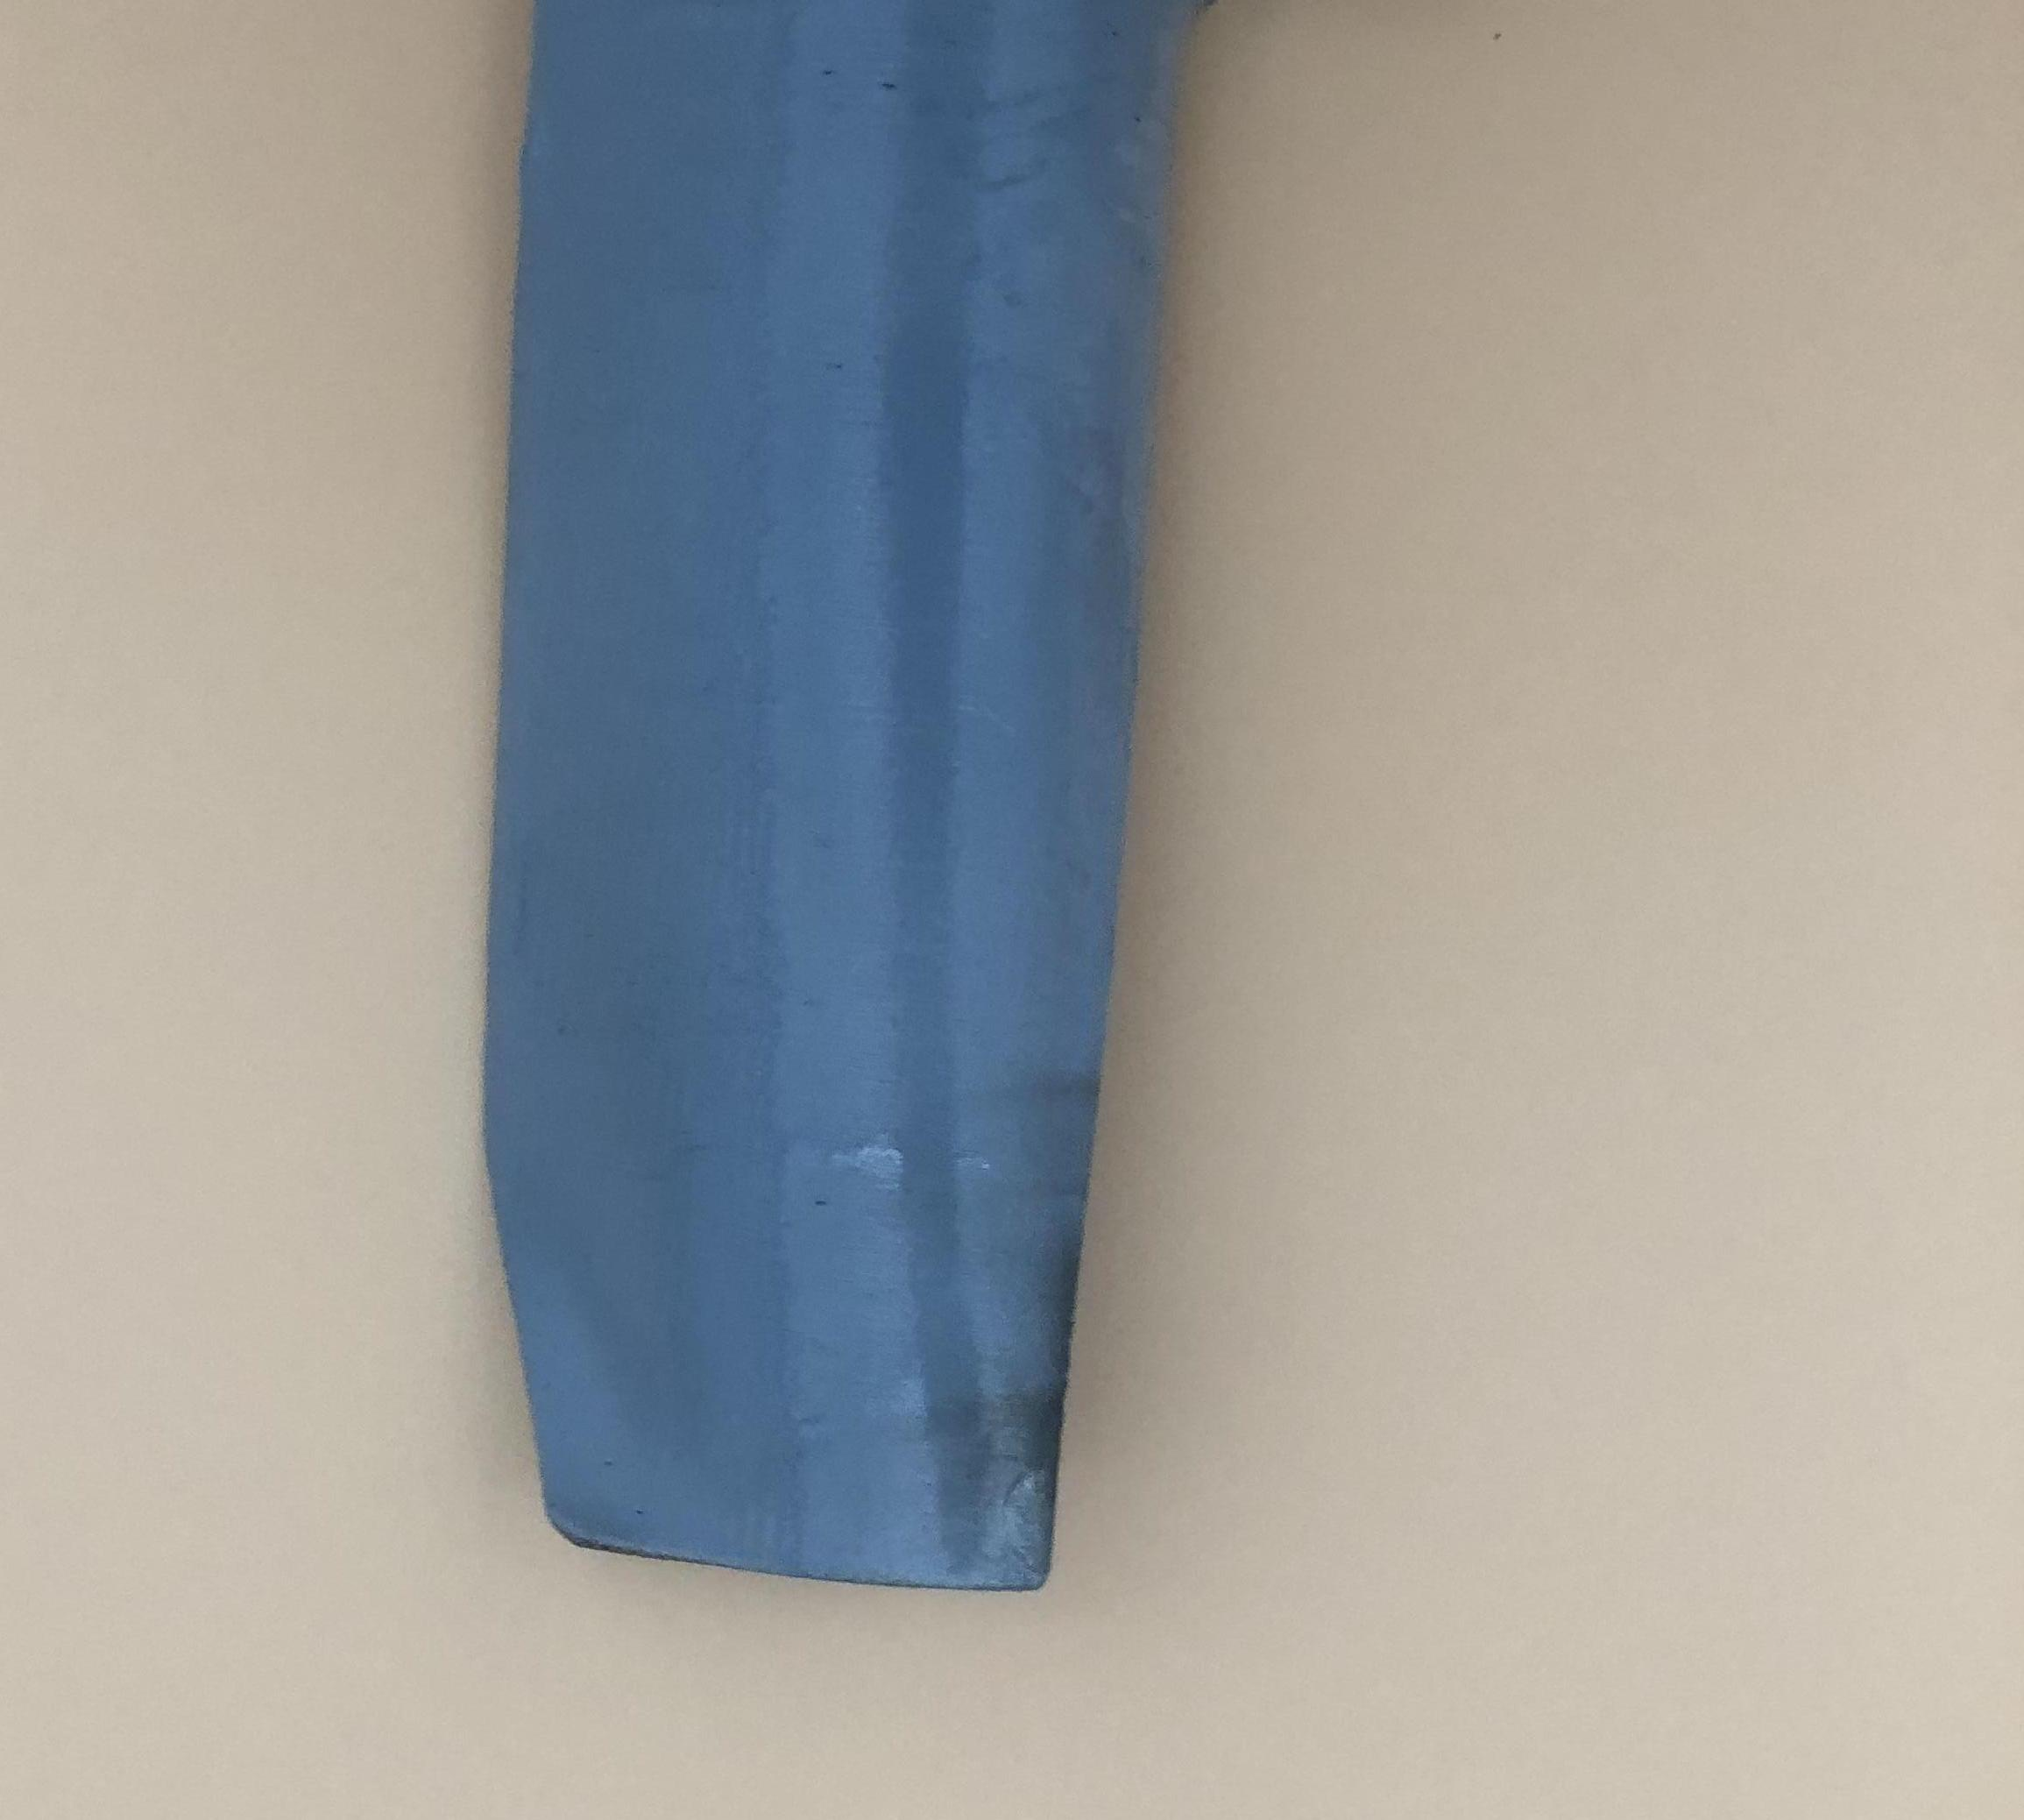ablation: (1000, 1235, 1098, 1567)
